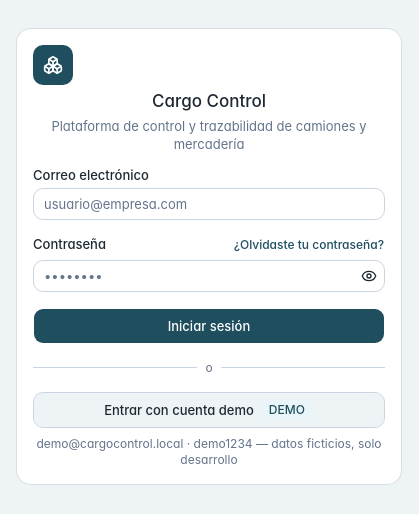
Scenario: LoginPage › rejects an invalid email format with aria-invalid state
This screenshot has width=419, height=514.
Type "no-es-un-email" into the field labelled "Correo electrónico". click: (209, 204)
box: [33, 188, 385, 220]
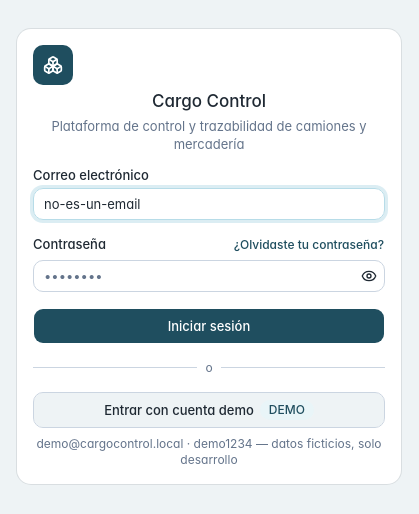
Type "123456" into the password field labelled "Contraseña". click: (209, 276)
box: [33, 260, 385, 292]
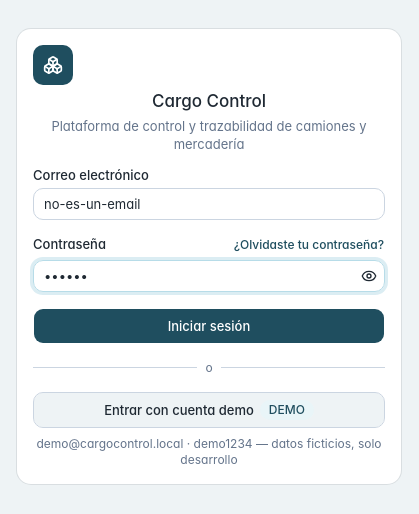
Click the button "Iniciar sesión". click: click(209, 326)
box: [33, 308, 385, 344]
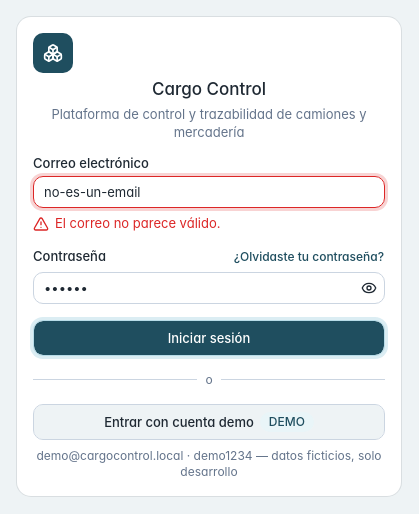
Now the text "El correo no parece válido." is shown, box [33, 214, 220, 232]
